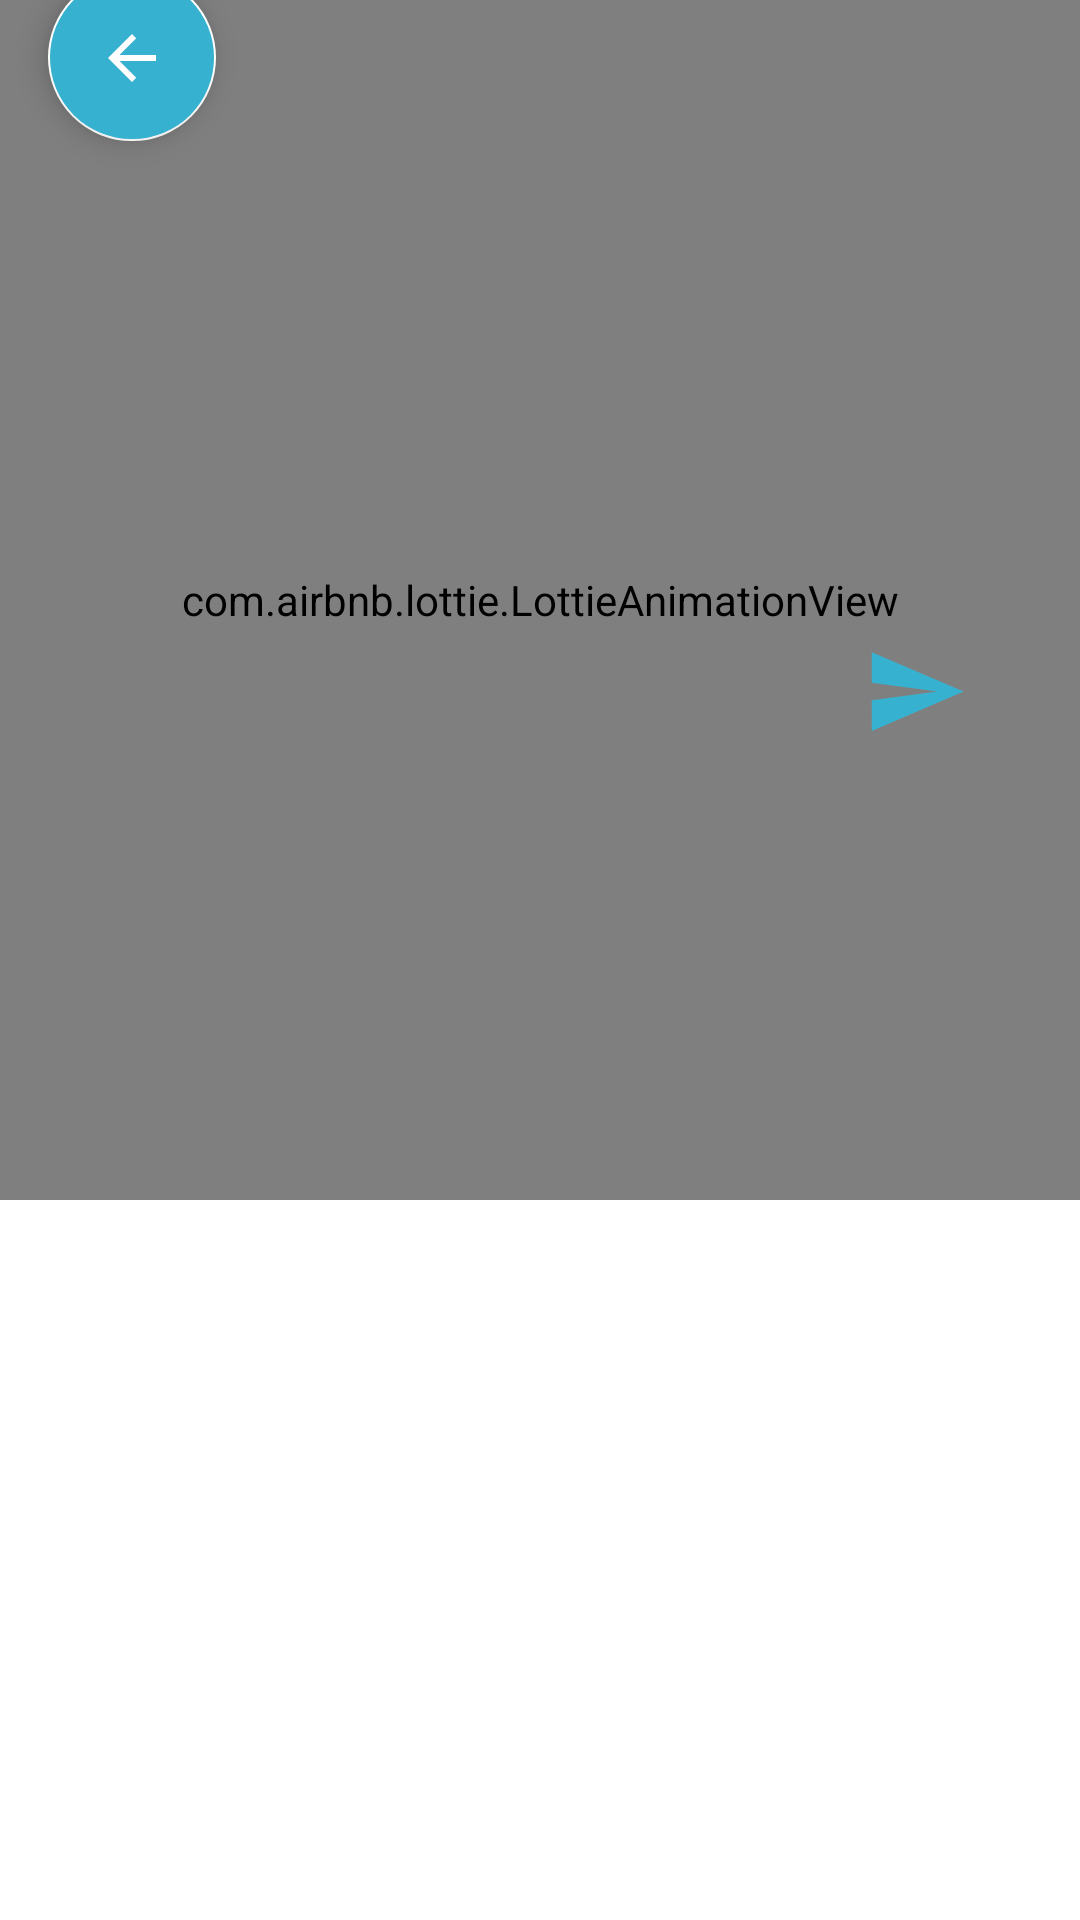

Icon bounding boxes for this 1080w x 1920h phone screenshot, format (x1, y1, x2, y2):
send: (872, 652, 963, 731)
